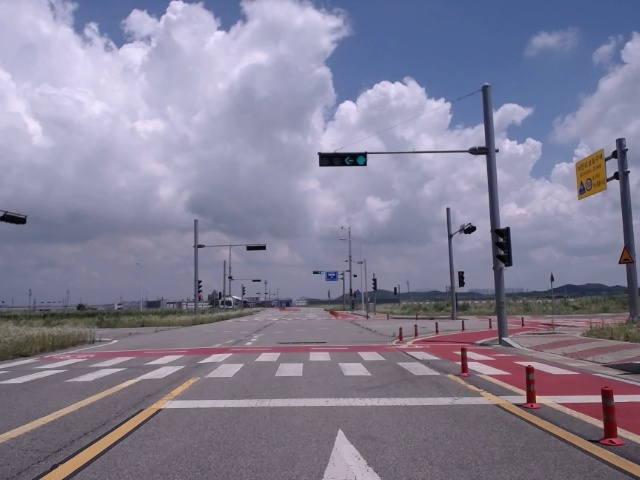all_green_4: (319, 153, 368, 166)
